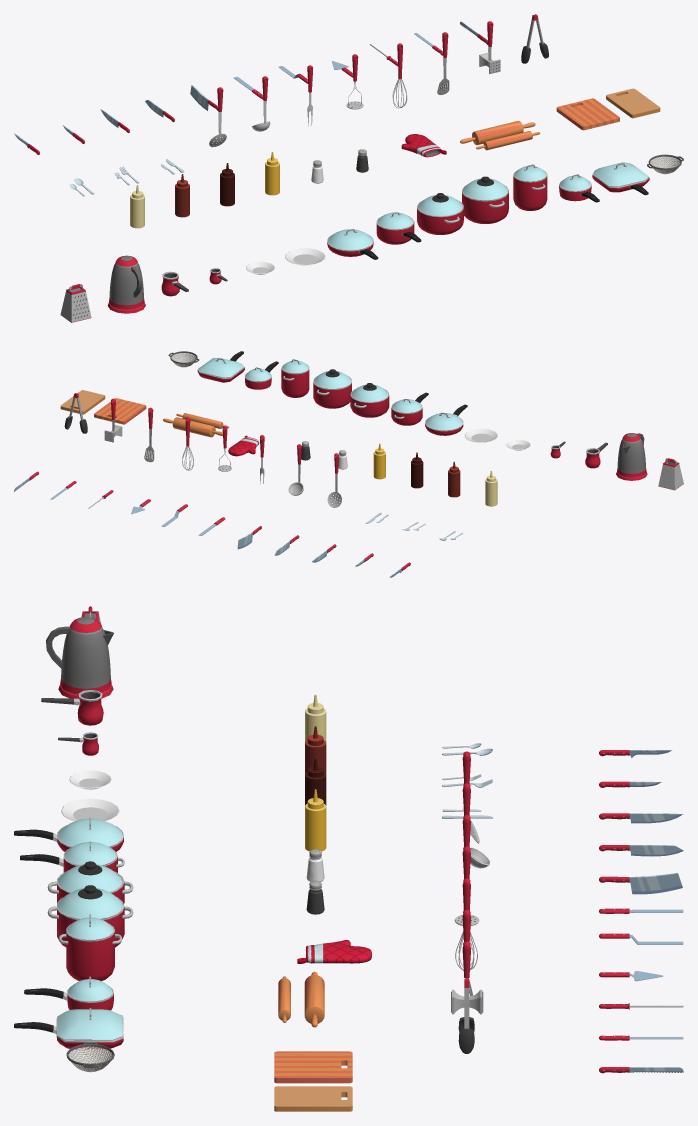
Rendered from Tools.fbx.
3 views of the same model, one above another, from view 1: azimuth 30°, elevation 25°; view 2: azimuth 150°, elevation 25°; view 3: azimuth 270°, elevation 25° (orthographic). The views are drawn at different scales.
Visible parts, largest first — view 1: Kettle, Chopping Board 1, Pot 2, Pot 3, Chopping Board 2, Pan Lid 4, Pot 1, Grater, Pot Lid 2, Roller 1, Pot Lid 1, Pan Lid 1 (+12 smaller); view 2: Kettle, Chopping Board 1, Pot 2, Pot 3, Pan Lid 4, Pot 1, Chopping Board 2, Grater, Pot Lid 2, Pan Lid 1, Pot Lid 1, Roller 1 (+8 smaller); view 3: Kettle, Chopping Board 1, Pot 3, Chopping Board 2, Pan Lid 4, Pot Lid 2, Pan Lid 1, Pot Lid 1, Glove, Mustard, Cleaver, Filter (+11 smaller).
Boxes of the visible parts, x1,y1,x2,y2 form: Kettle: (109,255,144,309); Chopping Board 1: (556,98,619,130); Pot 2: (462,190,508,223); Pot 3: (513,172,547,210); Chopping Board 2: (606,88,660,118); Pan Lid 4: (593,162,648,186); Pot 1: (417,200,463,234); Grater: (60,284,91,322); Pot Lid 2: (462,176,508,200); Roller 1: (460,120,535,145); Pot Lid 1: (417,193,463,216); Pan Lid 1: (327,229,373,250); Kettle: (617,433,646,477); Chopping Board 1: (94,398,146,424); Pot 2: (313,381,351,408); Pot 3: (281,367,309,397); Pan Lid 4: (198,358,244,377); Pot 1: (350,389,389,417); Chopping Board 2: (60,390,105,414); Grater: (658,458,683,490); Pot Lid 2: (313,369,351,389); Pan Lid 1: (425,412,463,430); Pot Lid 1: (351,383,388,402); Roller 1: (163,417,222,437); Kettle: (46,617,113,694); Chopping Board 1: (274,1051,352,1083); Pot 3: (58,927,122,980); Chopping Board 2: (274,1086,352,1111); Pan Lid 4: (57,1008,122,1040); Pot Lid 2: (57,885,123,919); Pan Lid 1: (57,817,123,847); Pot Lid 1: (57,861,123,892); Glove: (297,940,371,963); Mustard: (305,789,326,851); Cleaver: (599,873,682,894); Filter: (66,1042,114,1072).
Bounding box in the file's own units: 14.64 × 1.63 × 8.93.
